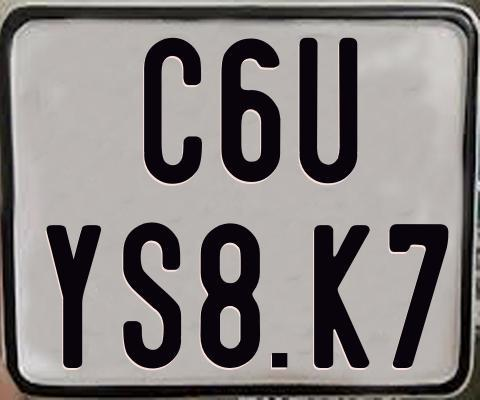6: (219, 37, 279, 182)
7: (388, 223, 454, 371)
8: (197, 220, 257, 370)
C: (144, 38, 202, 190)
K: (312, 224, 373, 370)
S: (123, 221, 183, 368)
U: (296, 35, 356, 182)
Y: (45, 225, 100, 368)
